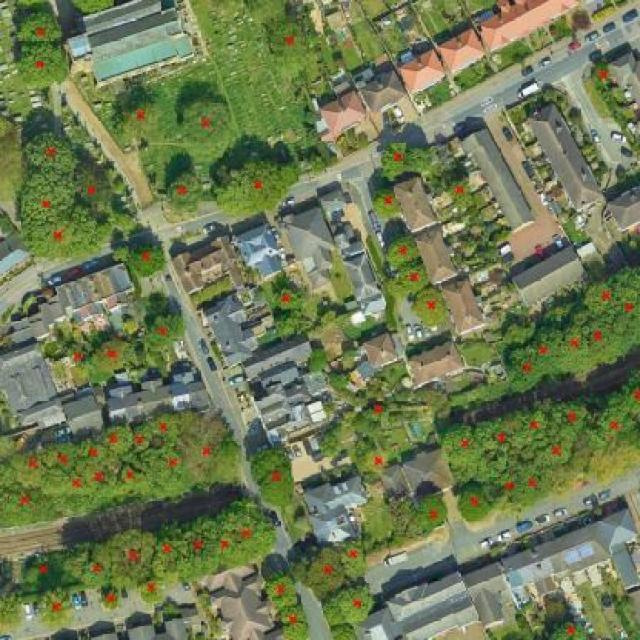tree: (215, 158, 299, 214), (218, 499, 279, 570), (175, 415, 236, 472), (603, 271, 640, 360), (250, 449, 301, 506), (180, 94, 231, 148), (21, 172, 75, 223), (106, 530, 160, 579), (196, 516, 242, 573), (17, 221, 98, 253), (14, 44, 74, 85), (574, 306, 617, 362), (72, 538, 116, 591), (20, 544, 72, 588), (265, 13, 312, 61), (23, 130, 75, 173), (479, 412, 521, 465), (182, 517, 215, 578), (157, 518, 189, 580), (307, 545, 342, 596), (585, 272, 625, 316), (442, 423, 481, 468), (110, 459, 155, 495), (142, 315, 185, 352), (15, 10, 64, 42), (38, 440, 84, 474), (264, 566, 301, 608), (120, 95, 163, 131), (0, 451, 48, 483), (516, 404, 553, 445), (0, 482, 45, 515), (340, 586, 377, 625), (508, 346, 539, 392), (555, 397, 593, 434), (167, 172, 199, 215), (456, 486, 493, 523), (487, 468, 525, 504), (584, 449, 625, 482), (93, 338, 130, 373), (517, 464, 554, 499), (537, 436, 575, 469), (416, 288, 449, 326), (131, 242, 167, 276), (276, 606, 313, 639), (598, 409, 635, 442), (368, 187, 410, 216), (415, 495, 447, 533), (38, 592, 73, 626), (381, 138, 408, 182), (388, 238, 424, 270), (76, 175, 110, 207), (307, 139, 339, 172), (78, 461, 114, 490), (556, 330, 585, 365), (0, 587, 23, 631), (534, 327, 557, 371), (398, 263, 432, 292), (46, 474, 89, 495), (156, 448, 190, 474), (547, 620, 591, 640), (360, 397, 392, 423), (346, 543, 369, 579), (148, 415, 181, 440), (269, 285, 302, 309), (407, 144, 431, 176), (445, 176, 468, 209), (68, 346, 90, 379), (365, 447, 390, 476), (101, 582, 124, 613), (306, 346, 329, 377), (140, 578, 166, 605), (106, 425, 129, 454), (108, 211, 135, 235), (562, 104, 589, 128), (84, 435, 107, 463), (273, 313, 301, 336), (592, 60, 612, 91), (328, 623, 363, 640), (623, 380, 640, 414), (318, 431, 339, 458), (0, 553, 15, 587), (145, 288, 169, 309), (611, 161, 632, 185), (328, 372, 350, 392), (111, 242, 129, 264), (129, 430, 153, 445), (545, 83, 559, 100)
